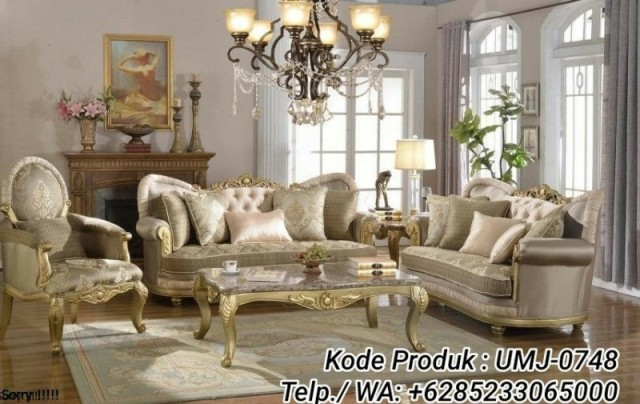Carving Chair: (425, 179, 609, 352), (12, 159, 152, 342), (135, 175, 386, 268)
Carving Table: (177, 254, 424, 355)
